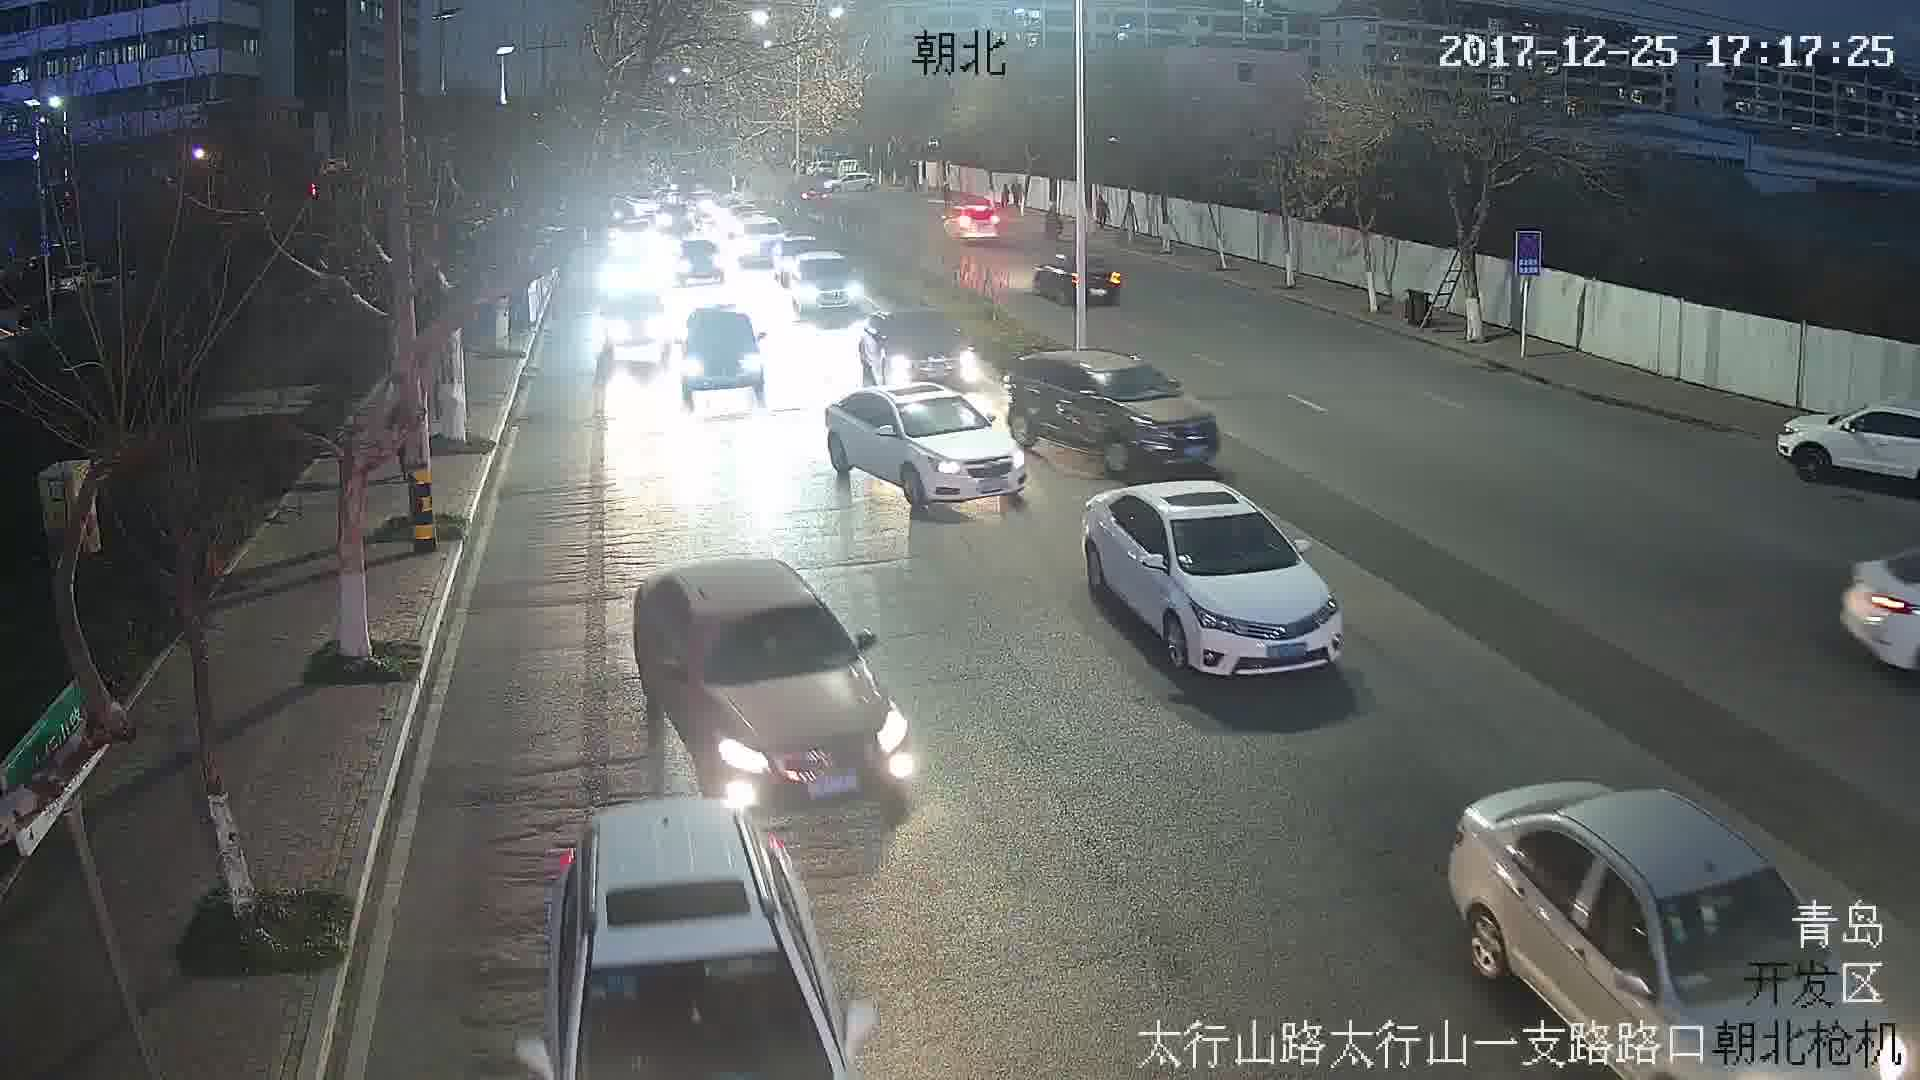car: (625, 557, 918, 817), (1075, 484, 1356, 678), (1009, 349, 1230, 473), (821, 385, 1028, 510), (853, 305, 985, 394), (677, 305, 764, 392), (1034, 250, 1124, 307), (935, 203, 1000, 239)
